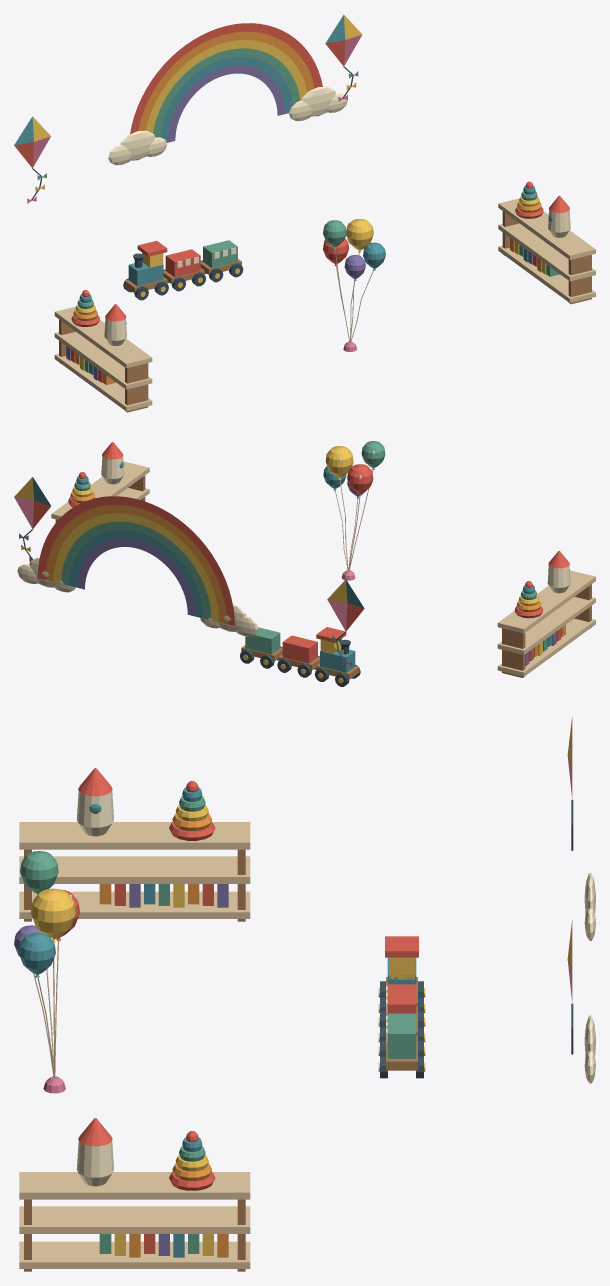
Rendered from Playroom.obj.
The picture shows the model from 3 angles, top to bottom: view 1: azimuth 30°, elevation 25°; view 2: azimuth 150°, elevation 25°; view 3: azimuth 270°, elevation 25°; orthographic projection. The views are drawn at different scales.
Parts seen in each view (by area): view 1: toys, balloons; view 2: toys, balloons; view 3: toys, balloons.
Part boxes in pixels (x1,y1,x2,y2): toys: (14, 14, 595, 412); balloons: (323, 219, 385, 351); toys: (14, 442, 595, 686); balloons: (323, 441, 385, 580); toys: (19, 716, 595, 1271); balloons: (14, 851, 79, 1093).
Size of the model in its own units: 13.13 by 5.08 by 8.71.
